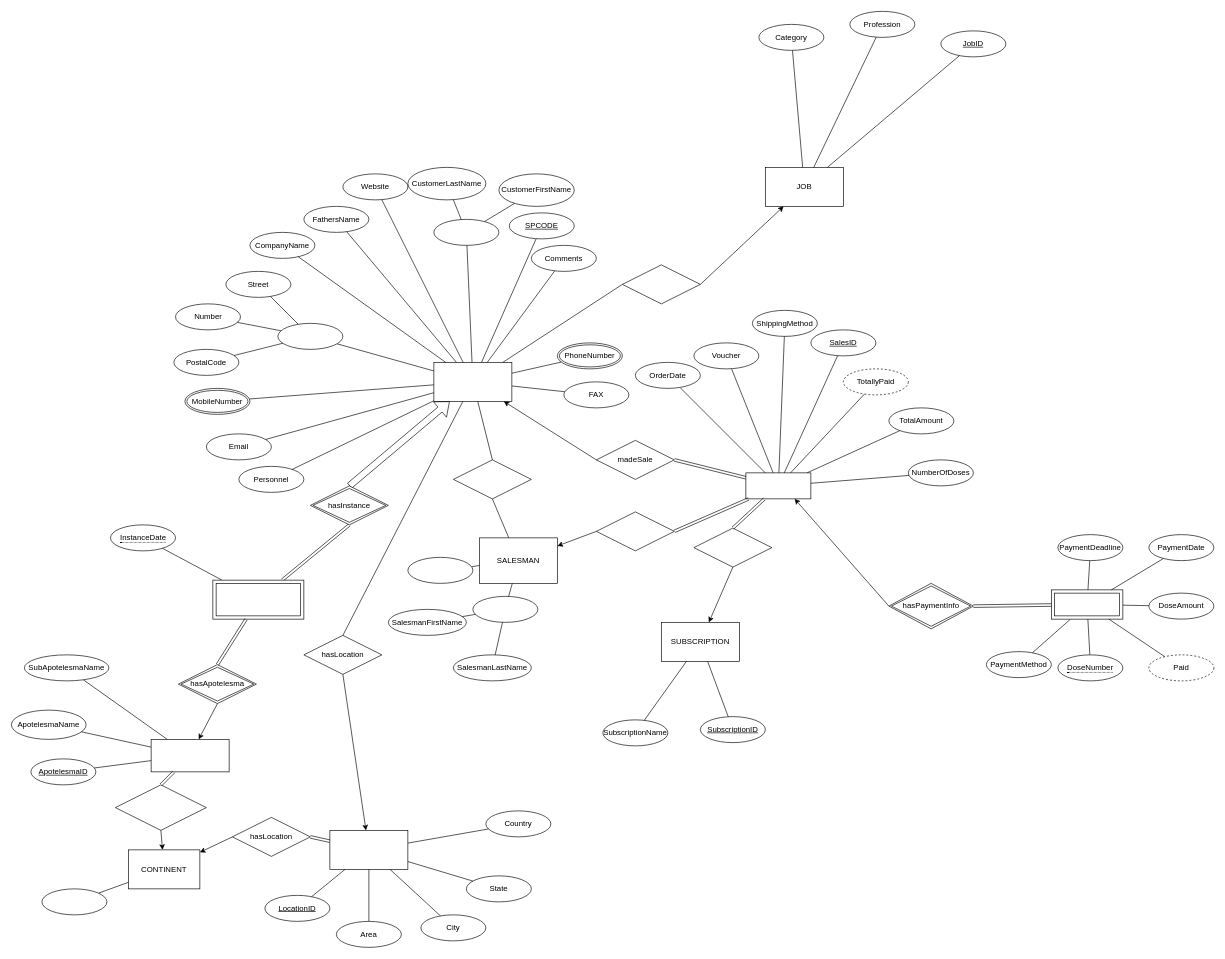
This 1225x959 diagram has some shape labels left out. Here are the shapes that lost their labels. From the top down, the centre of each, then its label:
At (x=466, y=232): "CustomerName".
At (x=661, y=284): "worksAs".
At (x=310, y=336): "Address".
At (x=472, y=381): "CUSTOMER".
At (x=492, y=479): "works_on".
At (x=778, y=485): "SALE".
At (x=635, y=531): "whoSold".
At (x=732, y=547): "whatWasBought".
At (x=440, y=570): "SalesmanID".
At (x=258, y=599): "HISTORY_INSTANCE".
At (x=505, y=609): "SalesmanName".
At (x=1087, y=604): "PAYMENT_INFO".
At (x=189, y=755): "APOTELESMA".
At (x=160, y=807): "belongsToContinent".
At (x=368, y=849): "LOCATION".
At (x=74, y=901): "ContinentName".
